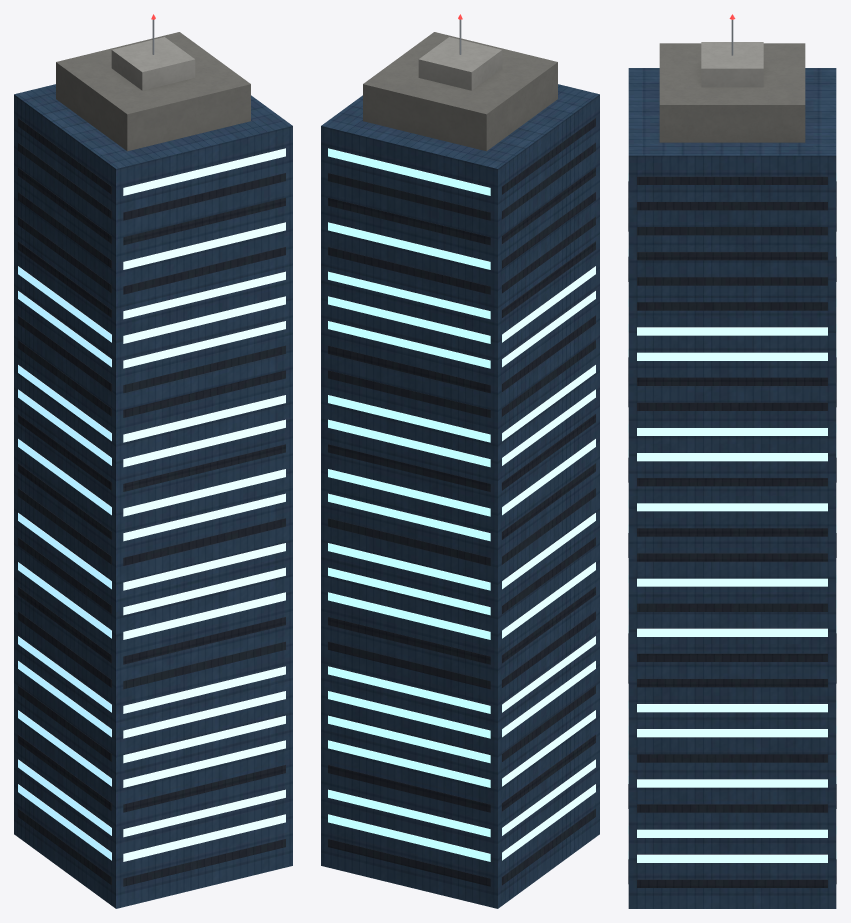
File: skyskrapa_1_tex.glb
3 views of the same model, side by side, from view 1: azimuth 30°, elevation 25°; view 2: azimuth 150°, elevation 25°; view 3: azimuth 270°, elevation 25° (orthographic).
Visible parts, largest first — view 1: skyskrapa_1; view 2: skyskrapa_1; view 3: skyskrapa_1.
Part boxes in pixels (bbox=[...]): skyskrapa_1: bbox=[14, 14, 292, 908]; skyskrapa_1: bbox=[321, 14, 599, 908]; skyskrapa_1: bbox=[628, 14, 836, 908].
Size of the model in its own units: 30.1 by 136 by 30.1.
Materials: 7 (4 with a texture image).
